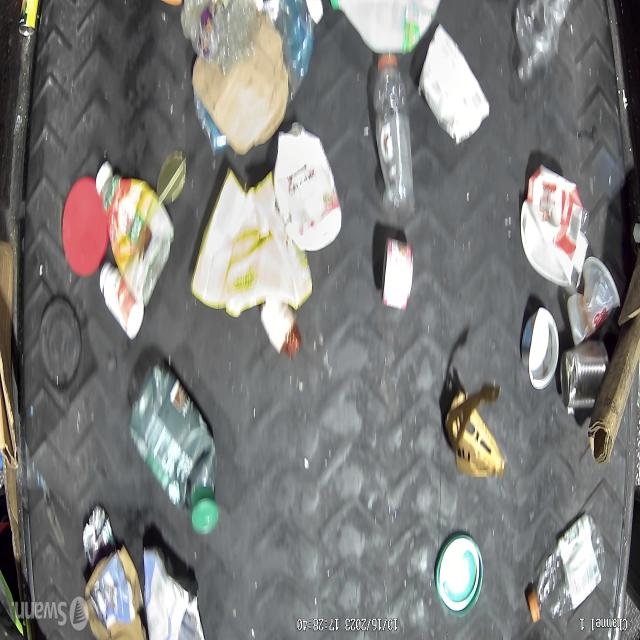can: (552, 334, 612, 416), (522, 304, 568, 402), (374, 233, 419, 320)
milk_jug: (272, 120, 346, 248)
non_white_jug: (191, 168, 311, 354), (132, 362, 222, 533), (95, 155, 173, 305)
plastic_bottle: (528, 516, 603, 628), (371, 45, 415, 221)
